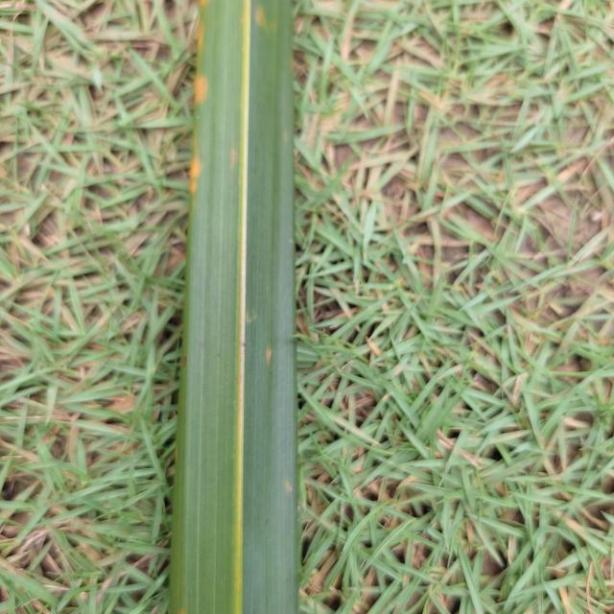Kalium: (173, 0, 297, 614)
